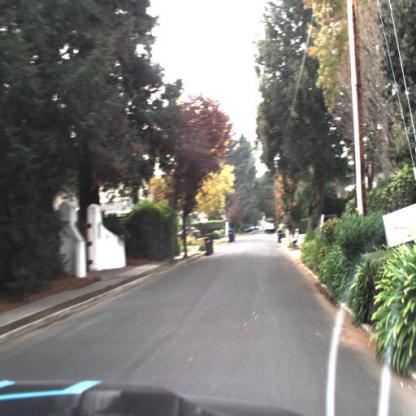car: (177, 228, 202, 242), (265, 220, 276, 234), (245, 224, 253, 235)
